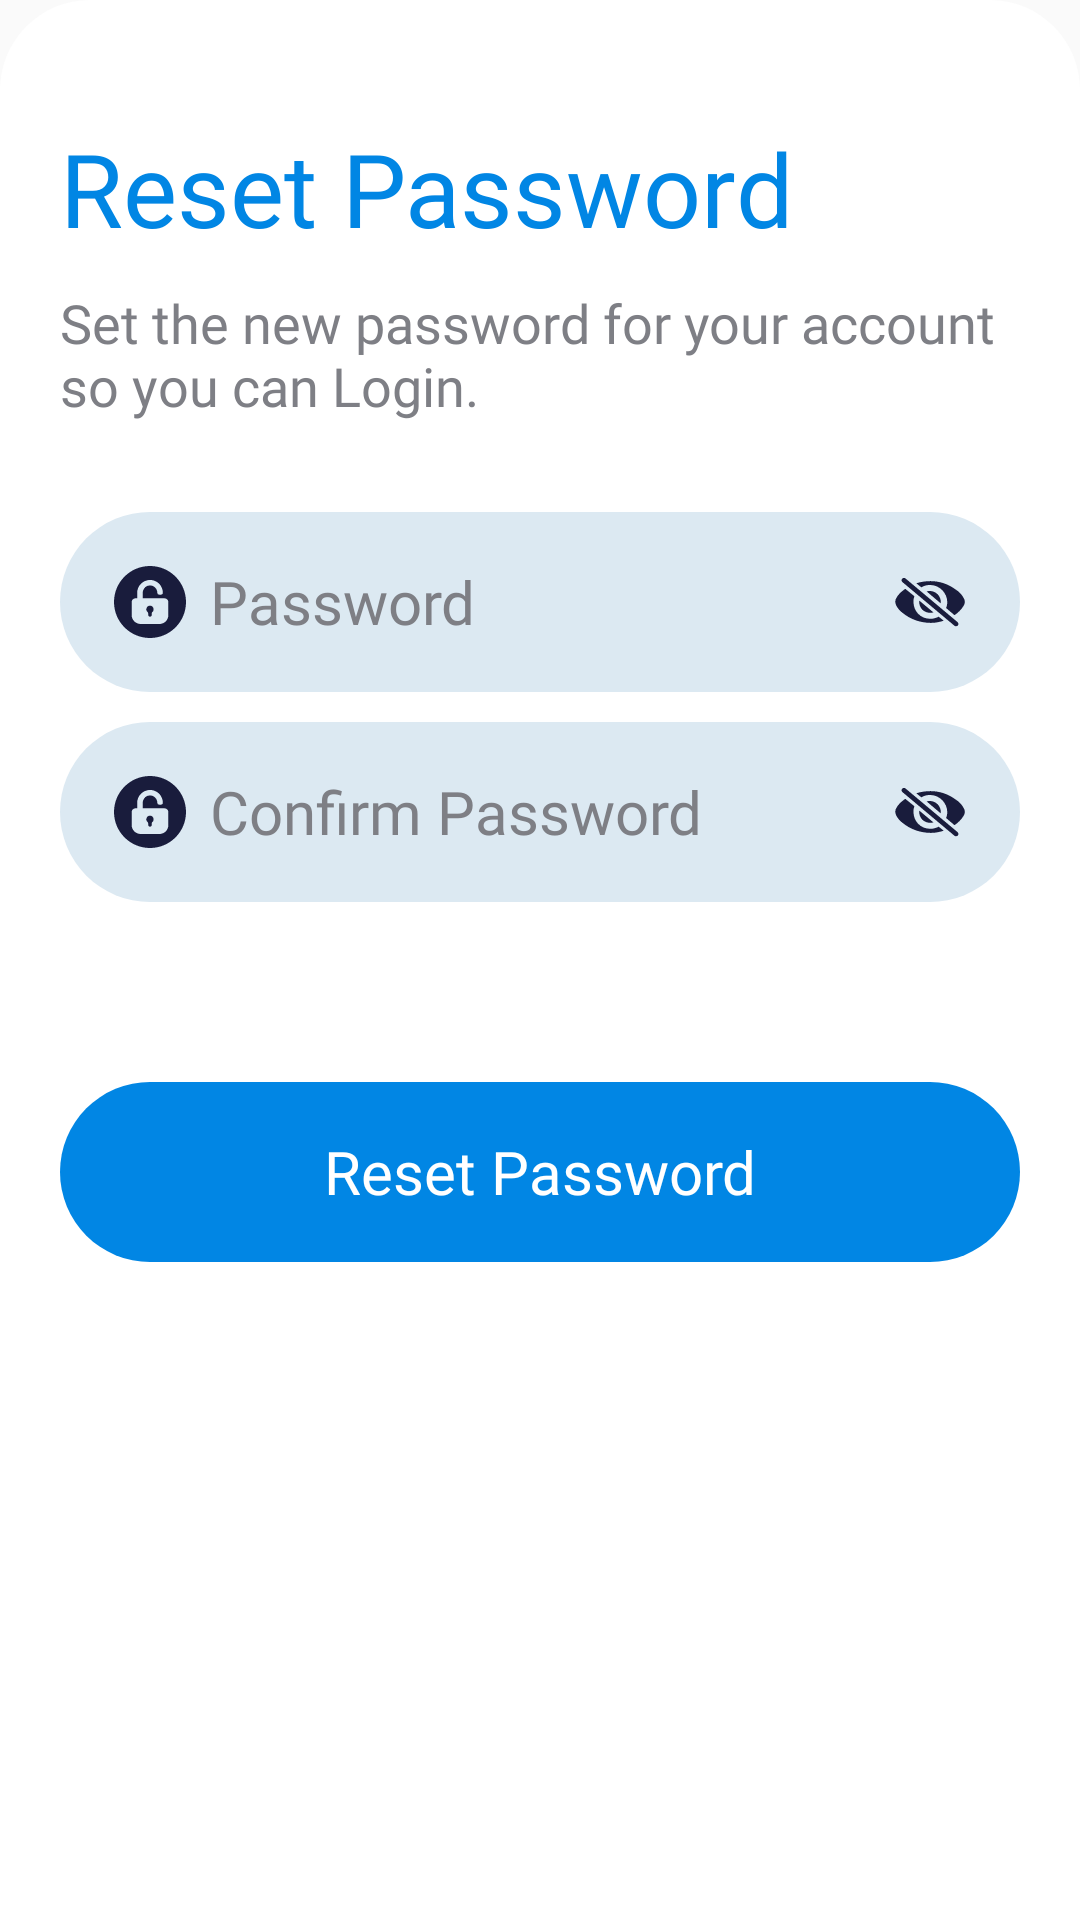

Where to tap for icons on this 1080w x 1920h app screen, as (x,y):
pass hide: (930,602), (930,812)
